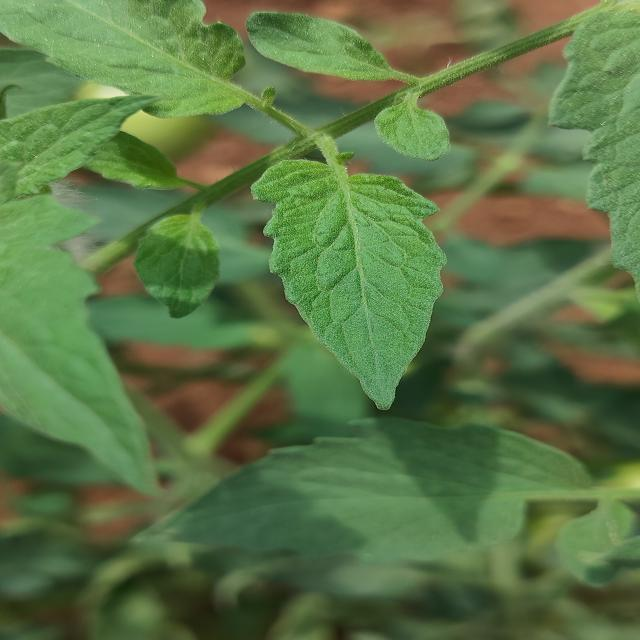tomato_healthy: (247, 150, 456, 408)
